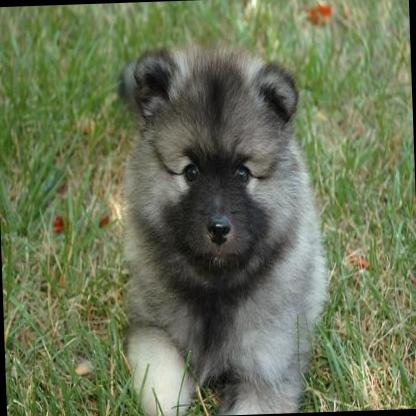keeshond: (109, 37, 331, 416)
